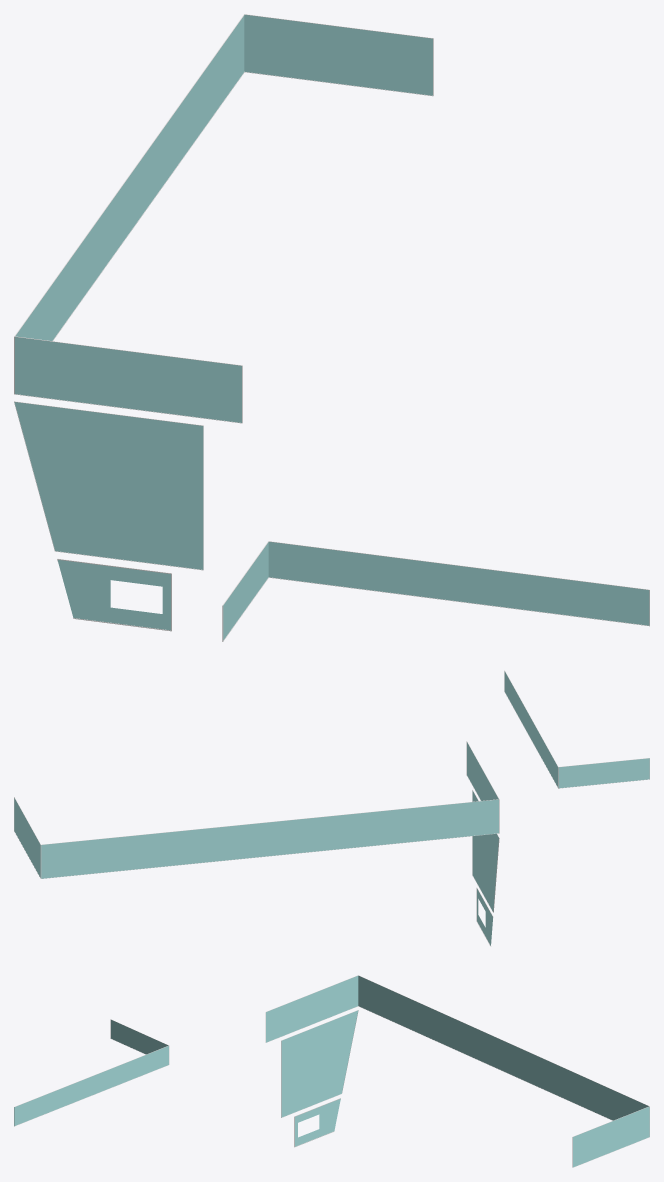
The model's file is GLASS WALLS.fbx.
3 renders of one model, top to bottom at view 1: azimuth 30°, elevation 25°; view 2: azimuth 150°, elevation 25°; view 3: azimuth 270°, elevation 25°, orthographic. The views are drawn at different scales.
Parts seen in each view (by area): view 1: Glass, Curtain walls; view 2: Glass, Curtain walls; view 3: Glass, Curtain walls, Unity.
Boxes of the visible parts, x1,y1,x2,y2 form: Glass: [14, 15, 649, 640]; Curtain walls: [14, 14, 433, 631]; Glass: [14, 671, 649, 945]; Curtain walls: [14, 741, 499, 946]; Glass: [14, 975, 649, 1167]; Curtain walls: [265, 975, 649, 1167]; Unity: [281, 1010, 358, 1117].
Size of the model in its own units: 46.6 by 19.01 by 74.67.
